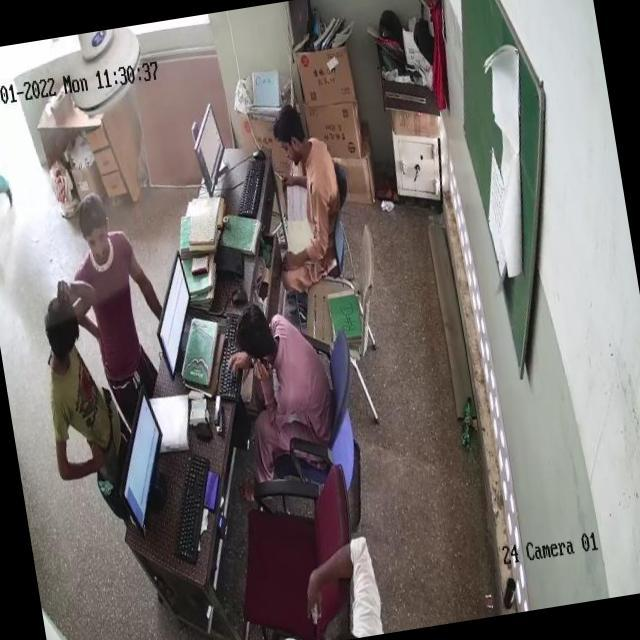person: (270, 105, 364, 297), (74, 204, 159, 385), (238, 294, 332, 444), (44, 299, 124, 460)
